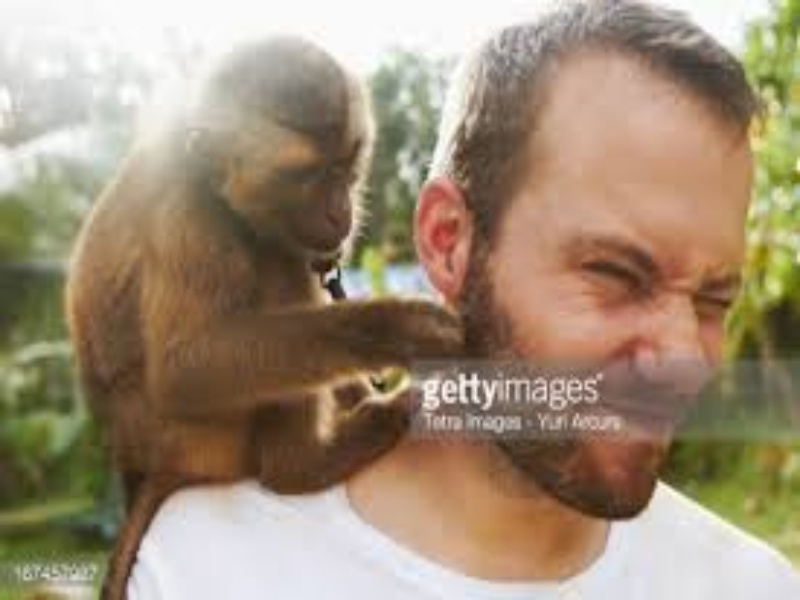monkey: (77, 30, 404, 527)
